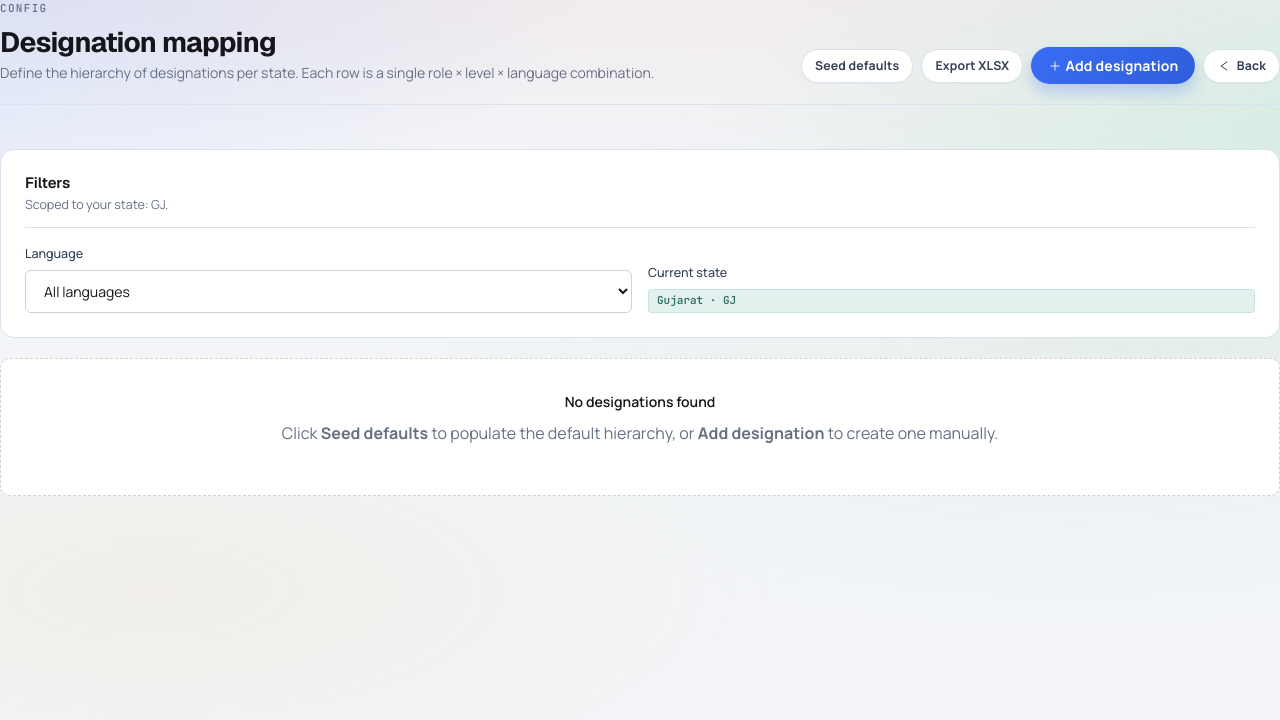
Test: DesignationMapping — Add flow › Add form validation: positive hierarchy required
Expected: the element with test id "dm-empty" is shown, [0,358,1279,496]
Click the button with test id "dm-add": (1113, 66) [1031,47,1195,84]
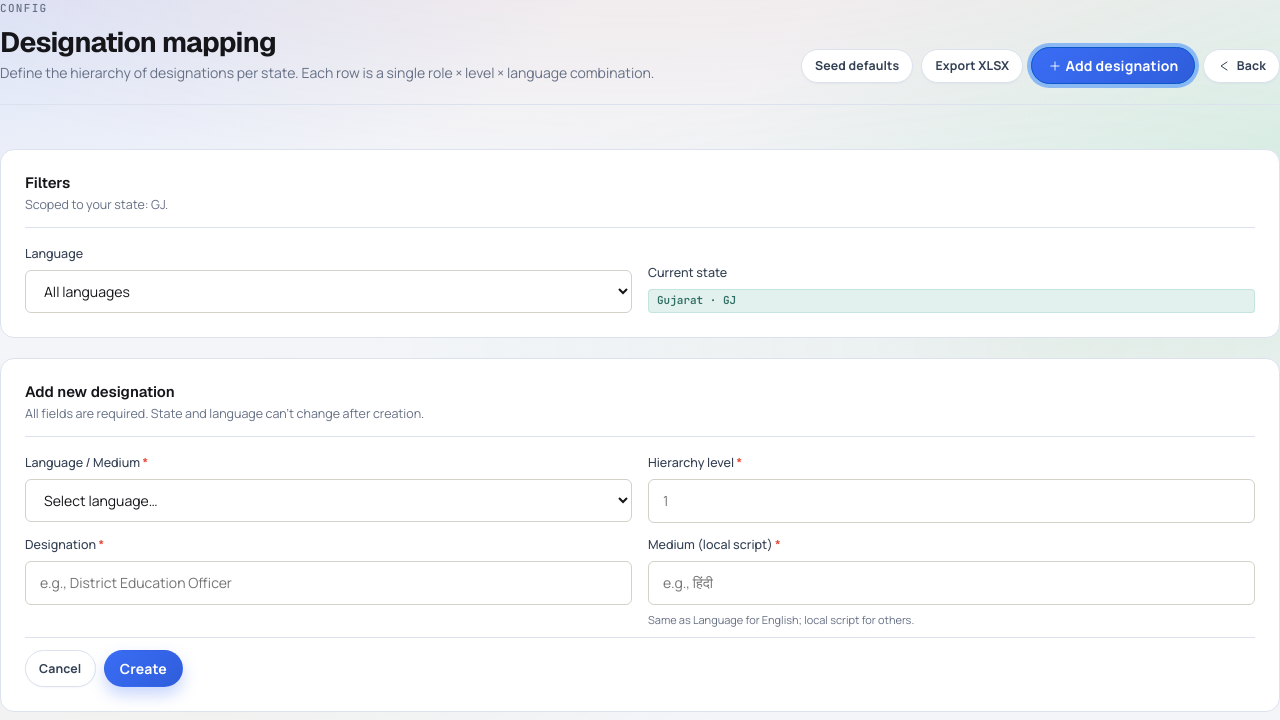
# Submit empty form
Click the button with test id "dm-form-save": (143, 668) [104,650,183,687]
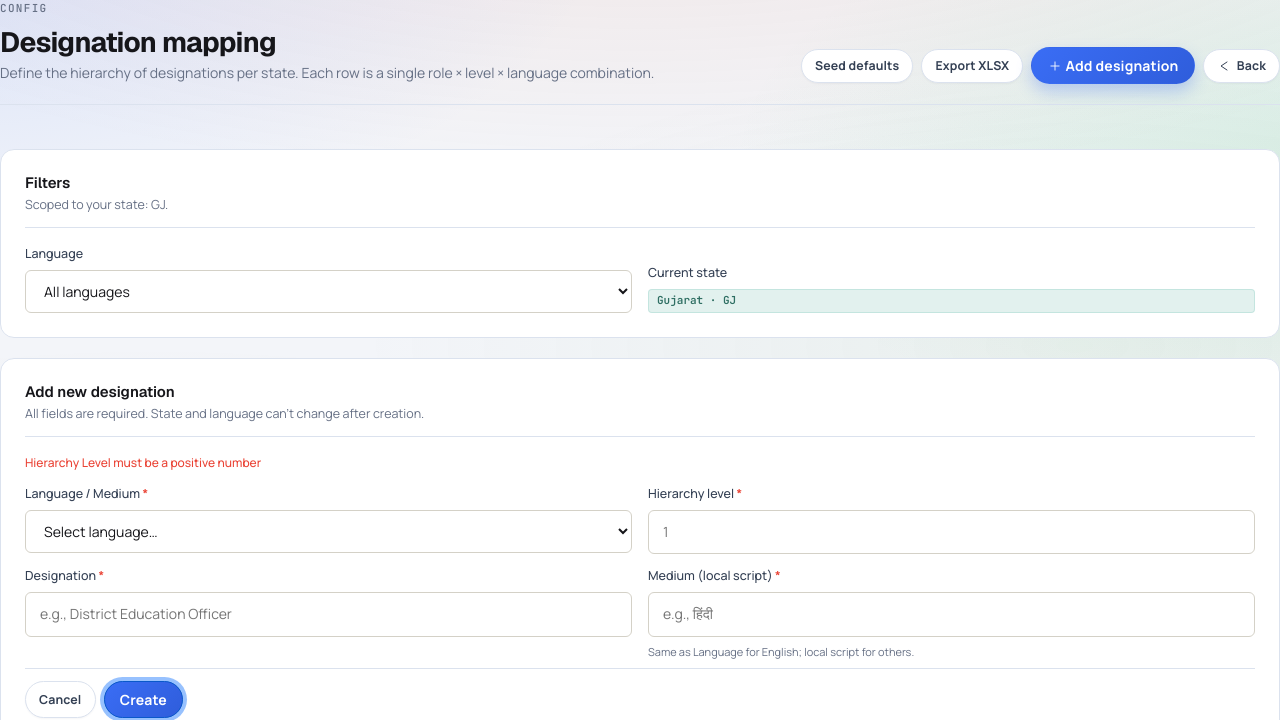
Now the message with test id "dm-form-error" shows "positive number", box [25,454,261,471]
